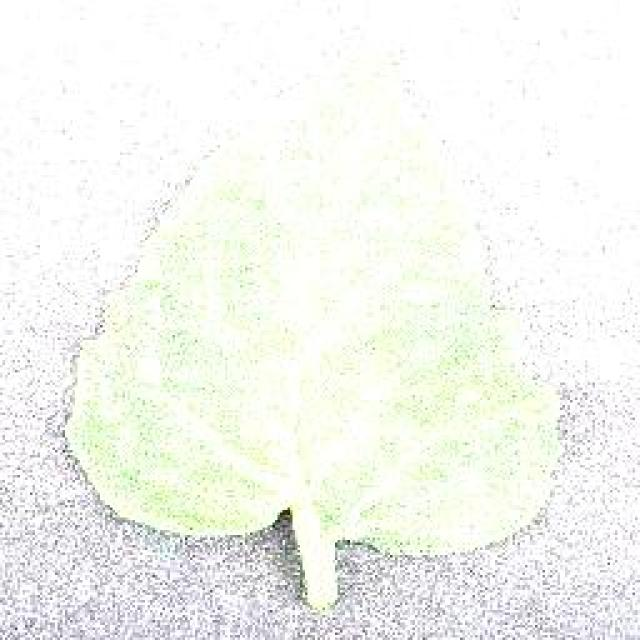Tomato___healthy: (62, 26, 568, 607)
